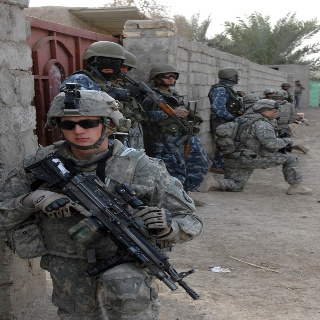rifle: (22, 152, 200, 302), (118, 71, 191, 134), (183, 98, 195, 157)
